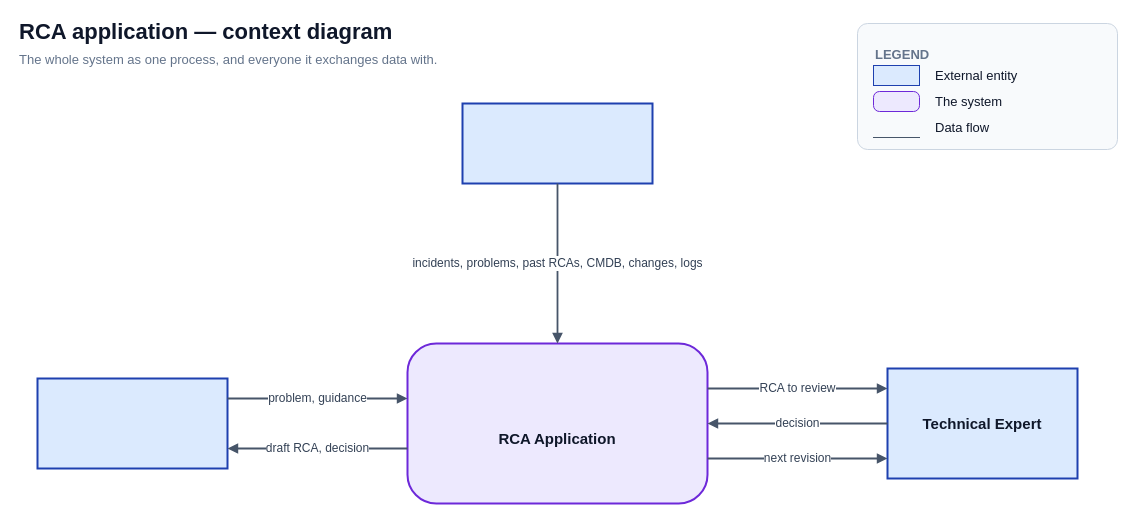
The diagram is 1135 pixels wide and 521 high, and some of its shapes have lost their labels. The shapes that lost their labels are listed below. From the top down, each one's centre as x and y in pixels, then its label:
At point 557,143: "Source systems".
At point 132,423: "Problem Manager".
